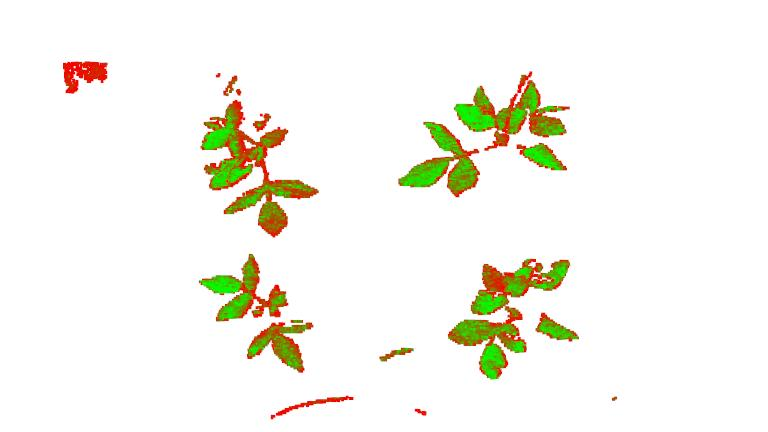mungbean: (396, 79, 577, 199), (197, 98, 325, 238), (455, 251, 586, 384), (195, 250, 307, 374)
